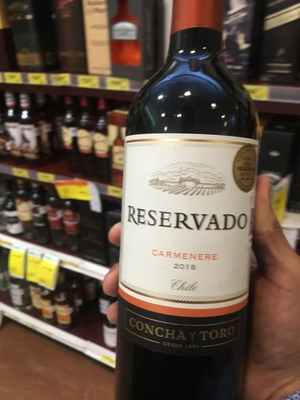reservado carmenere: (124, 6, 264, 400)
